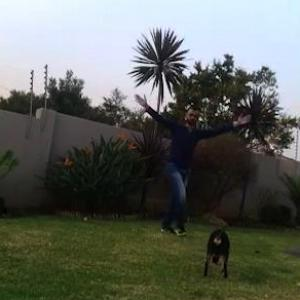takeoff: (140, 62, 246, 252)
